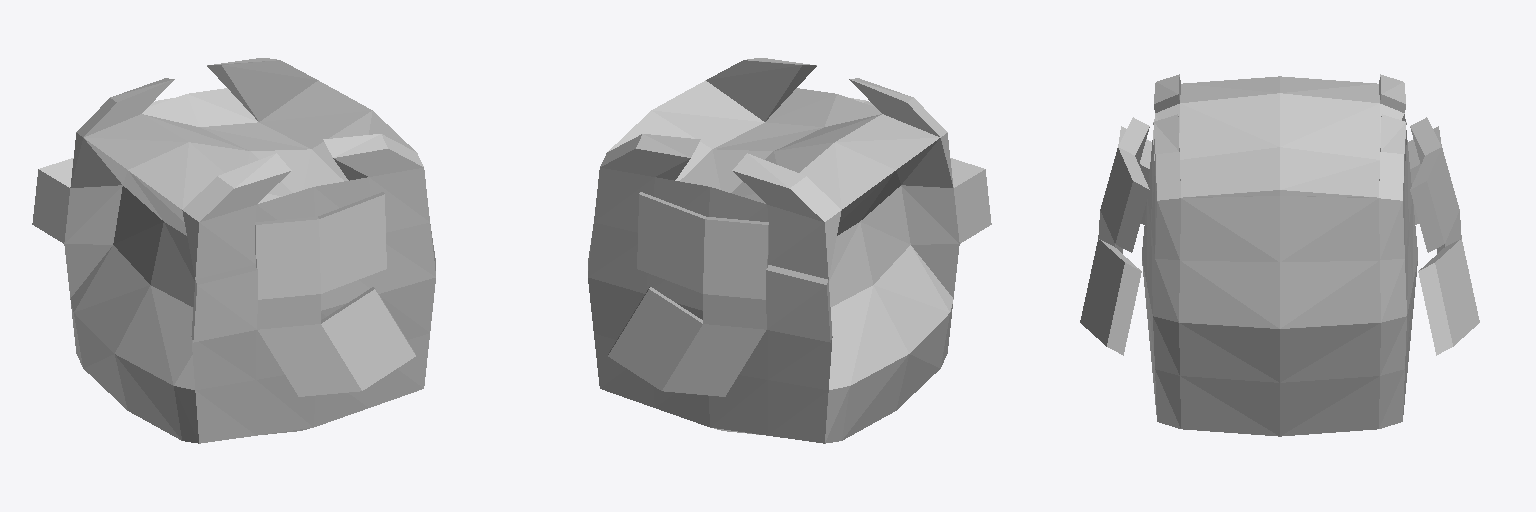
File: module_cloak.obj
3 renders of one model, left to right at view 1: azimuth 30°, elevation 25°; view 2: azimuth 150°, elevation 25°; view 3: azimuth 270°, elevation 25°, orthographic.
Parts seen in each view (by area): view 1: Cube.001; view 2: Cube.001; view 3: Cube.001.
Part boxes in pixels (x1,y1,x2,y2): Cube.001: (32,58,435,443); Cube.001: (588,58,991,443); Cube.001: (1080,74,1479,436).
Bounding box in the file's own units: 1.67 × 1.66 × 2.02.